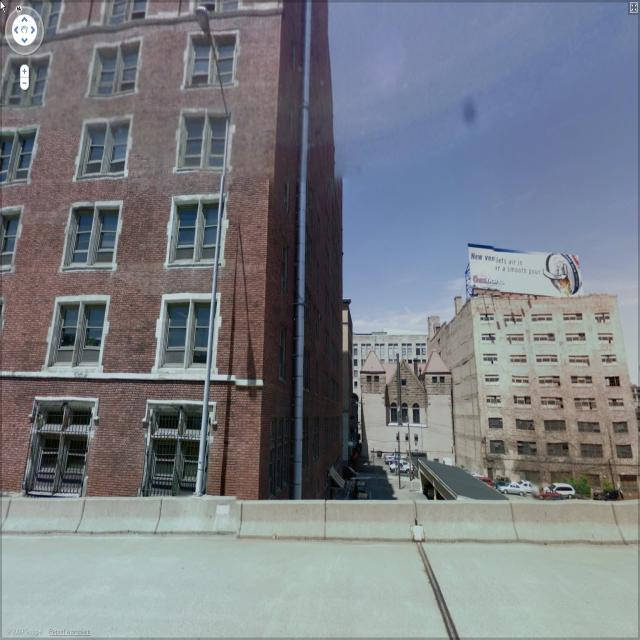b_1: (1, 5, 340, 487), (456, 288, 636, 498), (356, 354, 456, 475)
